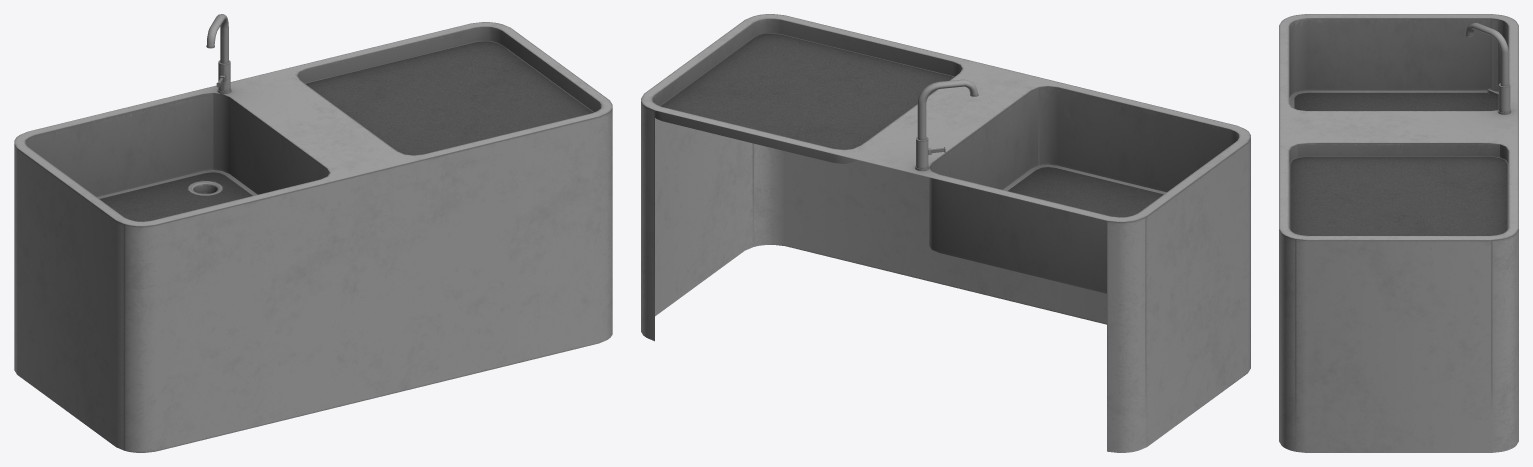
The model's file is sink.fbx.
3 views of the same model, side by side, from view 1: azimuth 30°, elevation 25°; view 2: azimuth 150°, elevation 25°; view 3: azimuth 270°, elevation 25° (orthographic). The views are drawn at different scales.
Visible parts, largest first — view 1: sink; view 2: sink; view 3: sink.
Boxes of the visible parts, bbox=[...] form: sink: bbox=[14, 14, 612, 452]; sink: bbox=[641, 14, 1250, 452]; sink: bbox=[1279, 14, 1518, 452].
Size of the model in its own units: 446 by 267 by 200.
